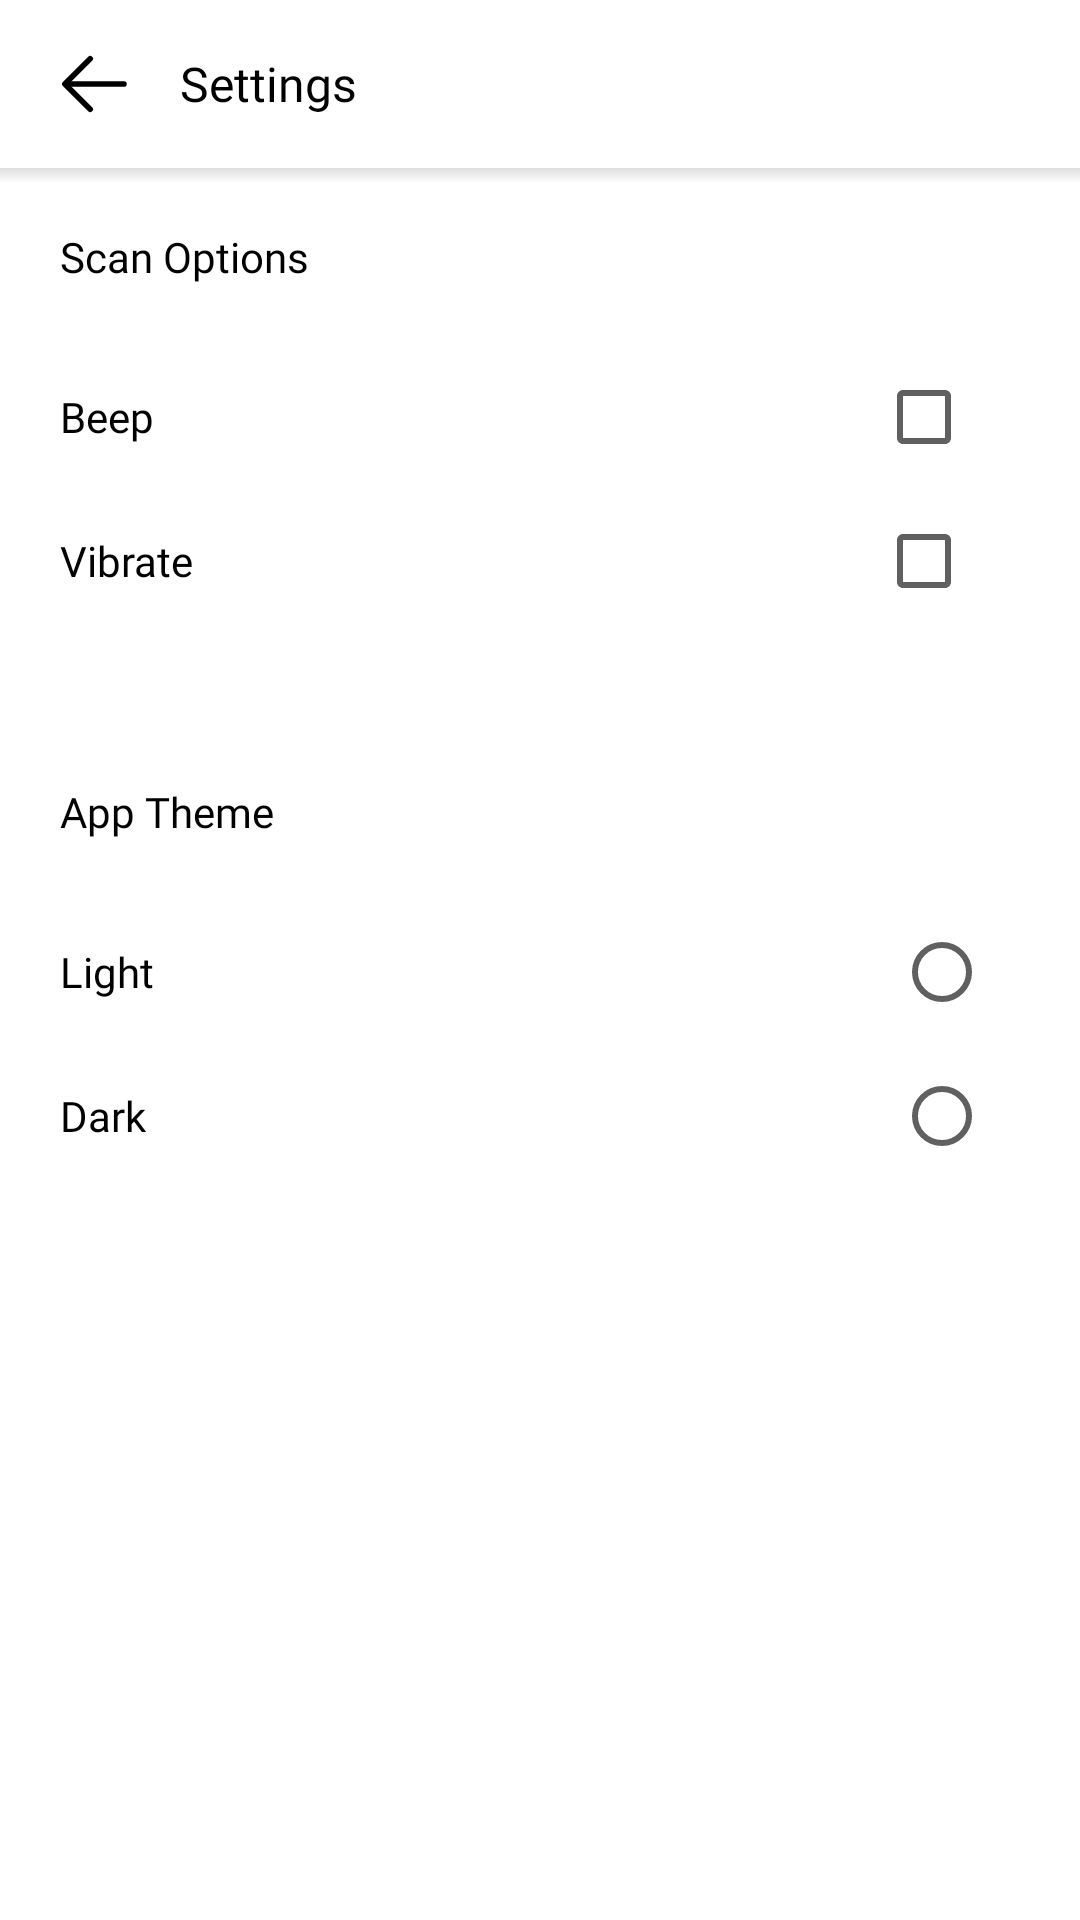

Point at icon controls on the screen. Image size 1080×1920, points as (x,y).
back: (94,84)
